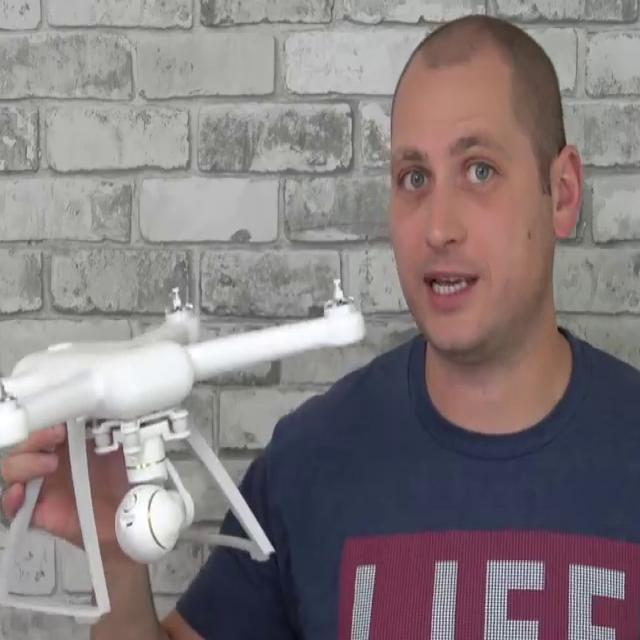drone: (0, 279, 373, 456)
